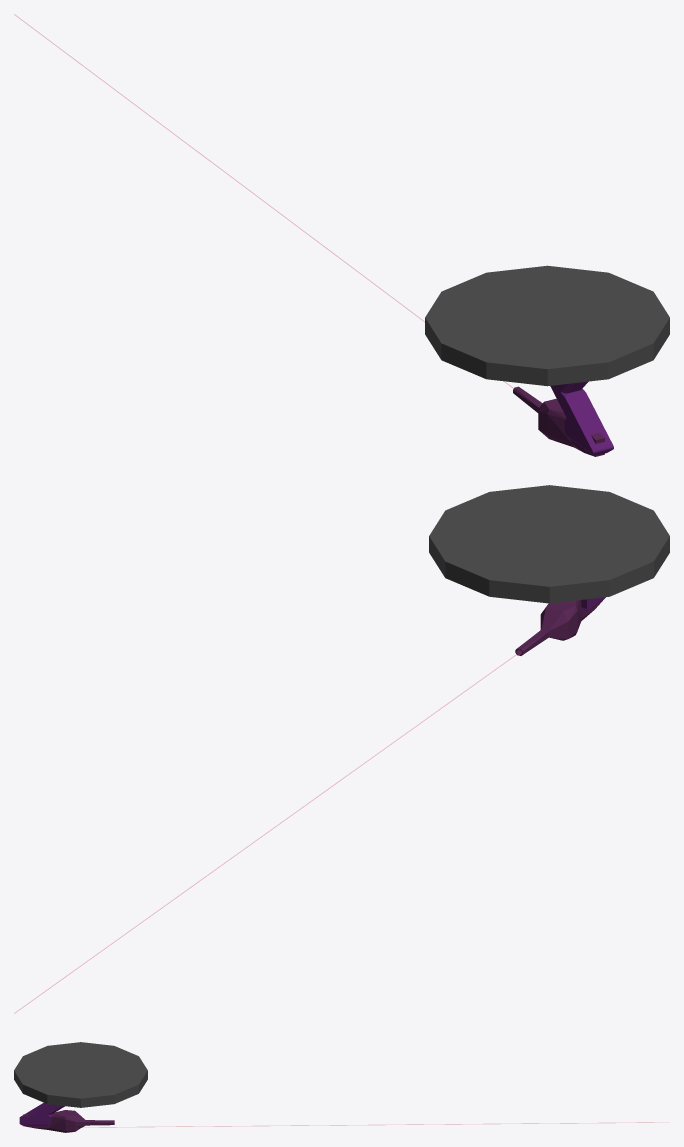
Rendered from Turret.fbx.
3 views of the same model, one above another, from view 1: azimuth 30°, elevation 25°; view 2: azimuth 150°, elevation 25°; view 3: azimuth 270°, elevation 25° (orthographic). The views are drawn at different scales.
Visible parts, largest first — view 1: TurrBase, TurrSpin, TurrGun; view 2: TurrBase, TurrGun; view 3: TurrBase, TurrGun, TurrSpin, Laser.
Part boxes in pixels (left/top/right/bottom): TurrBase: left=425, top=265, right=669, bottom=386; TurrSpin: left=550, top=381, right=613, bottom=455; TurrGun: left=513, top=386, right=604, bottom=456; TurrBase: left=429, top=485, right=669, bottom=603; TurrGun: left=515, top=597, right=605, bottom=655; TurrBase: left=14, top=1042, right=147, bottom=1107; TurrGun: left=23, top=1110, right=114, bottom=1132; TurrSpin: left=19, top=1103, right=64, bottom=1125; Laser: left=99, top=1122, right=654, bottom=1127.
Size of the model in its own units: 408 by 199 by 1999.
